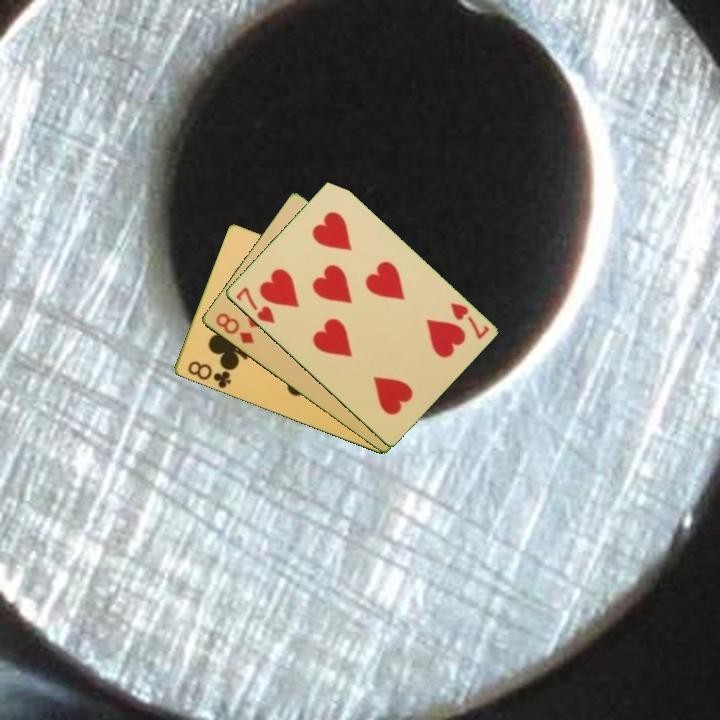7h: (232, 283, 278, 327), (446, 299, 492, 342)
8c: (184, 357, 234, 391)
8d: (212, 309, 257, 347)
